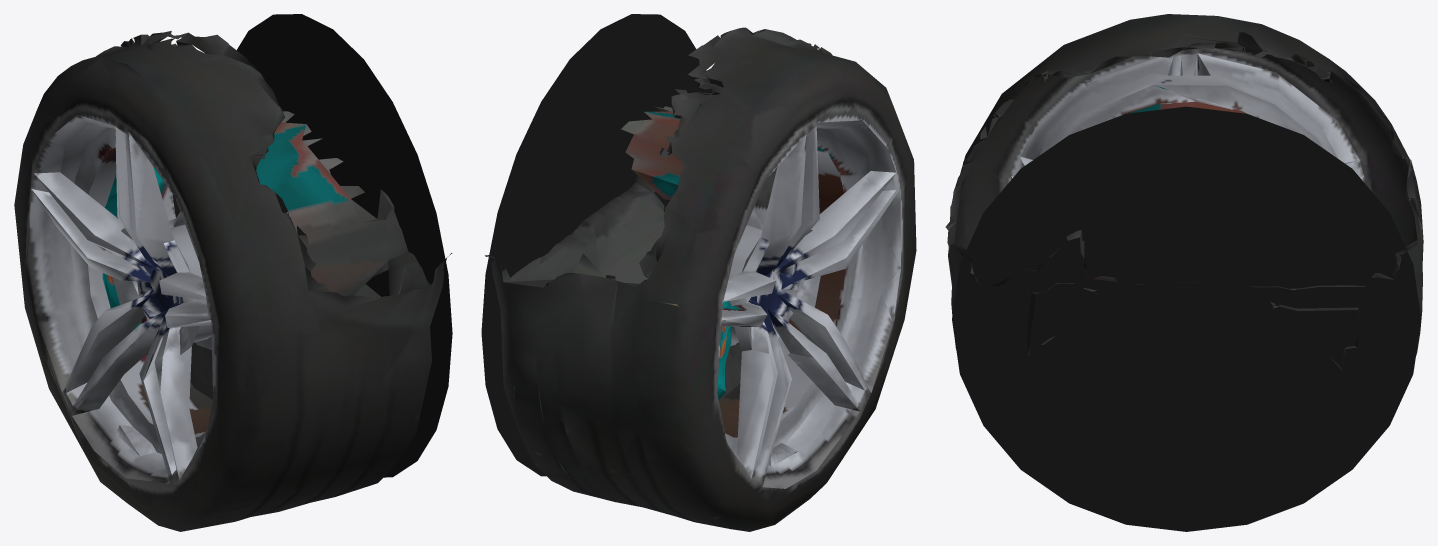
Rendered from red_sports_fictional_wheel_RL.glb.
The picture shows the model from 3 angles, left to right: view 1: azimuth 30°, elevation 25°; view 2: azimuth 150°, elevation 25°; view 3: azimuth 270°, elevation 25°; orthographic projection.
Visible parts, largest first — view 1: red_sports_fictional_wheel_RL; view 2: red_sports_fictional_wheel_RL; view 3: red_sports_fictional_wheel_RL.
Boxes of the visible parts, x1,y1,x2,y2 form: red_sports_fictional_wheel_RL: [14, 14, 452, 531]; red_sports_fictional_wheel_RL: [481, 14, 916, 531]; red_sports_fictional_wheel_RL: [945, 14, 1423, 531].
Bounding box in the file's own units: 0.3898 × 0.7673 × 0.7523.
Materials: 1 (1 with a texture image).
